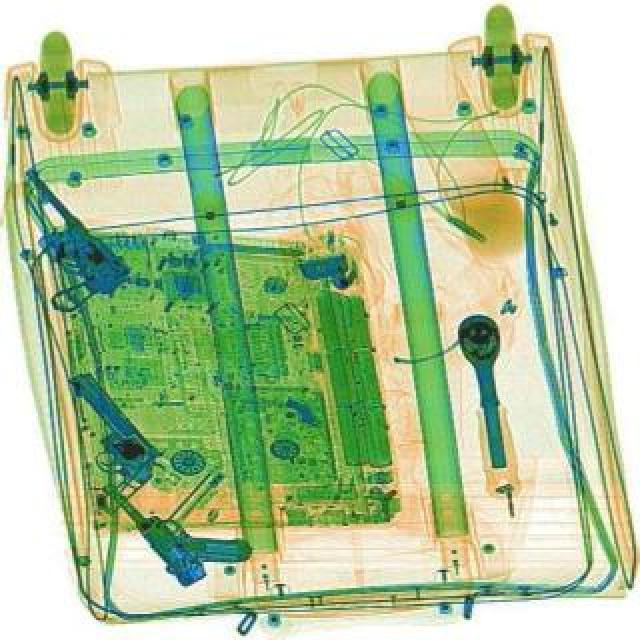gun: (94, 444, 258, 600), (20, 366, 172, 514), (0, 168, 132, 302)
